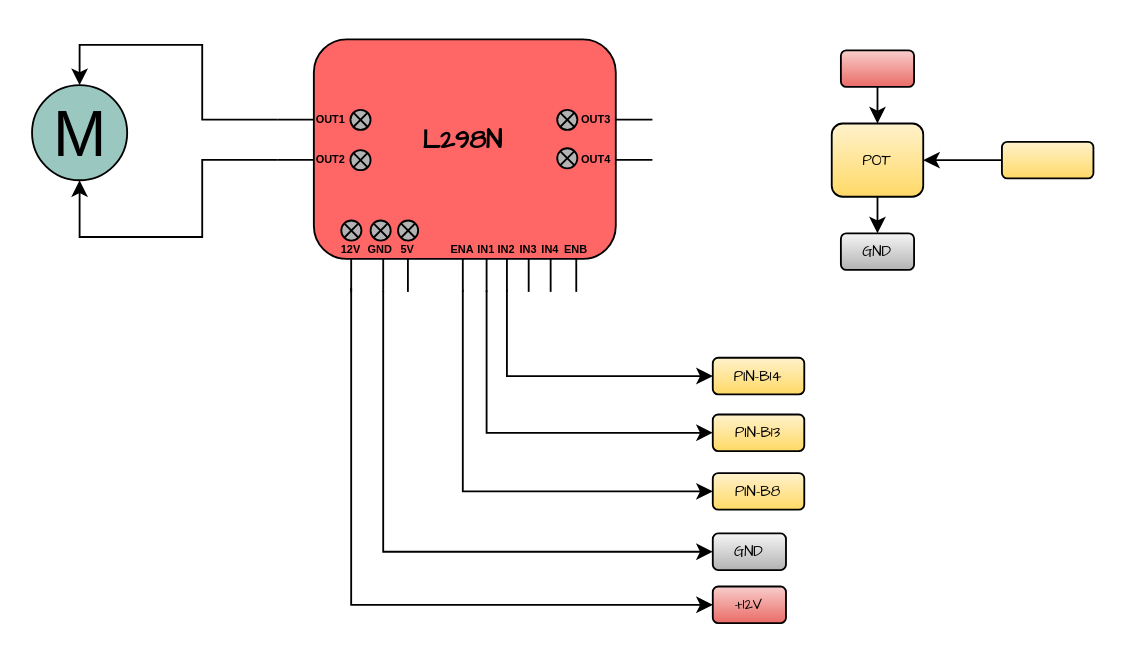
Image size: 1125x655. Some labels were removed from this diagram. Each missing label, with the box of its shape:
+3.3V: (839, 48, 914, 87)
PIN-A0: (1000, 140, 1093, 178)
